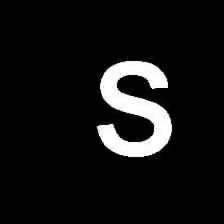LTR_S: (91, 55, 176, 160)
